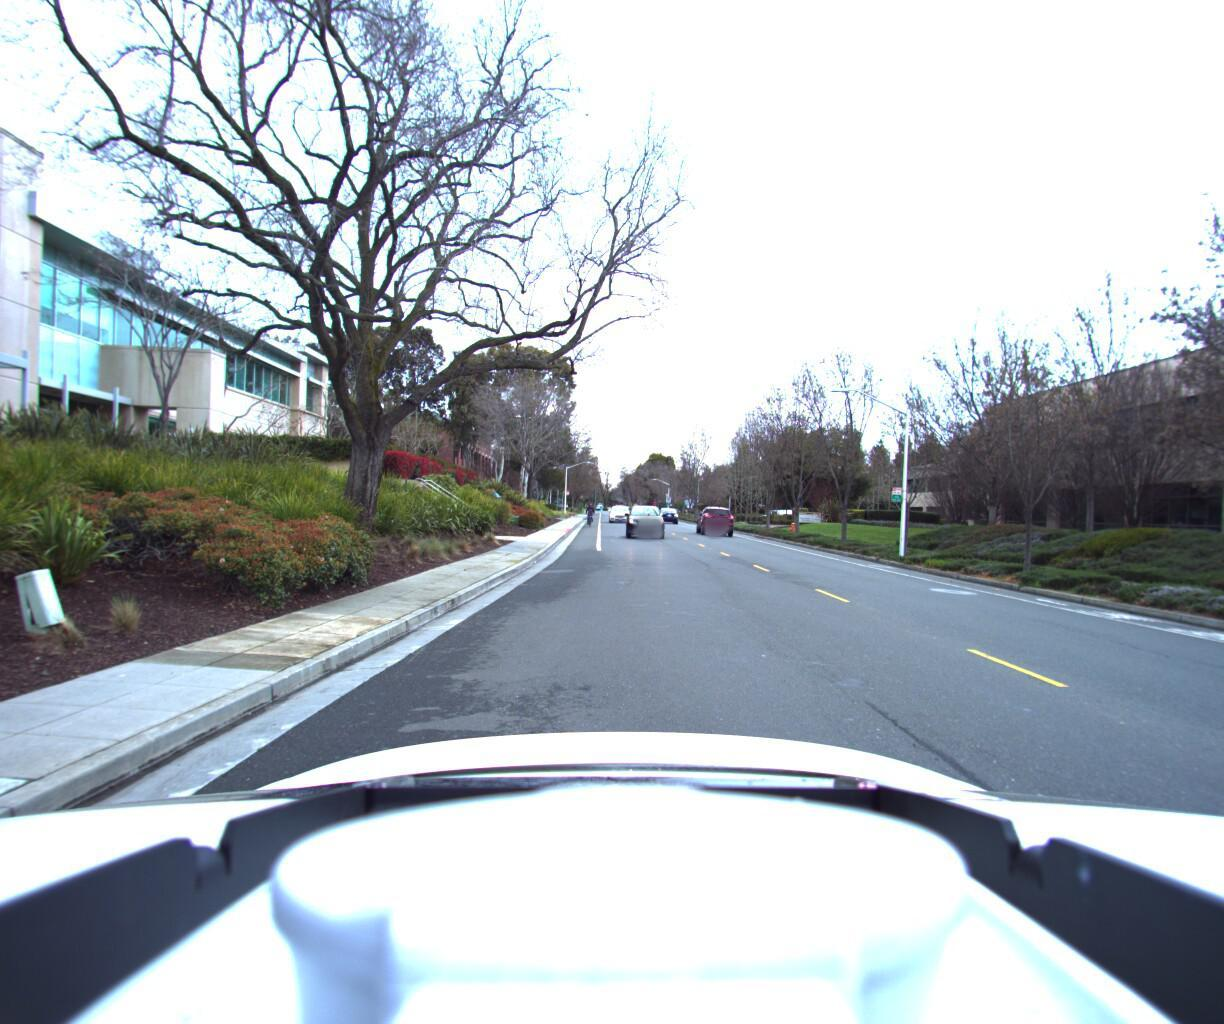bicycle: (582, 505, 595, 531)
car: (624, 510, 666, 546), (695, 506, 733, 538), (608, 505, 632, 524)
